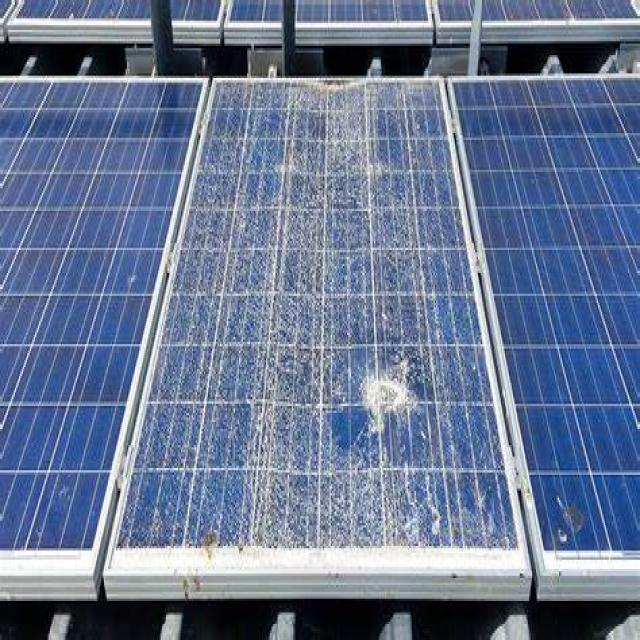Physical-damage: (116, 80, 513, 546)
